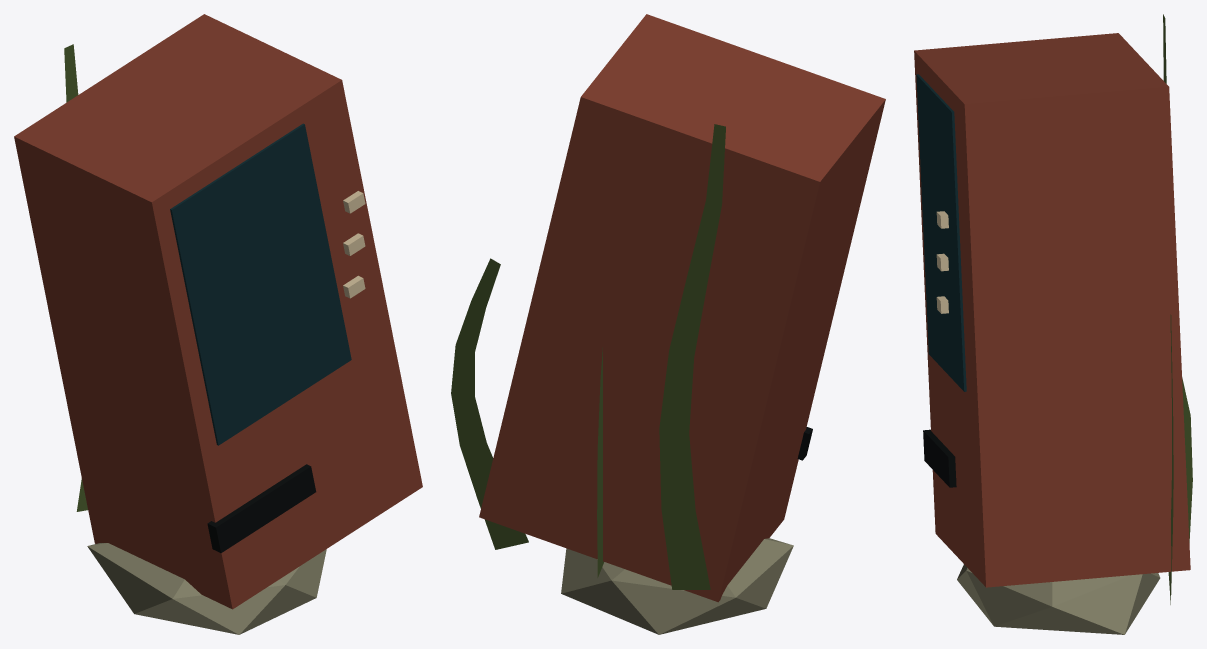
Rendered from relic_vending_husk.glb.
3 renders of one model, left to right at view 1: azimuth 30°, elevation 25°; view 2: azimuth 150°, elevation 25°; view 3: azimuth 270°, elevation 25°, orthographic.
Visible parts, largest first — view 1: relic_vending_husk; view 2: relic_vending_husk; view 3: relic_vending_husk.
Boxes of the visible parts, x1,y1,x2,y2 form: relic_vending_husk: (14,14,422,634); relic_vending_husk: (451,14,885,634); relic_vending_husk: (914,14,1192,634).
Bounding box in the file's own units: 1.53 × 2.25 × 1.07.
